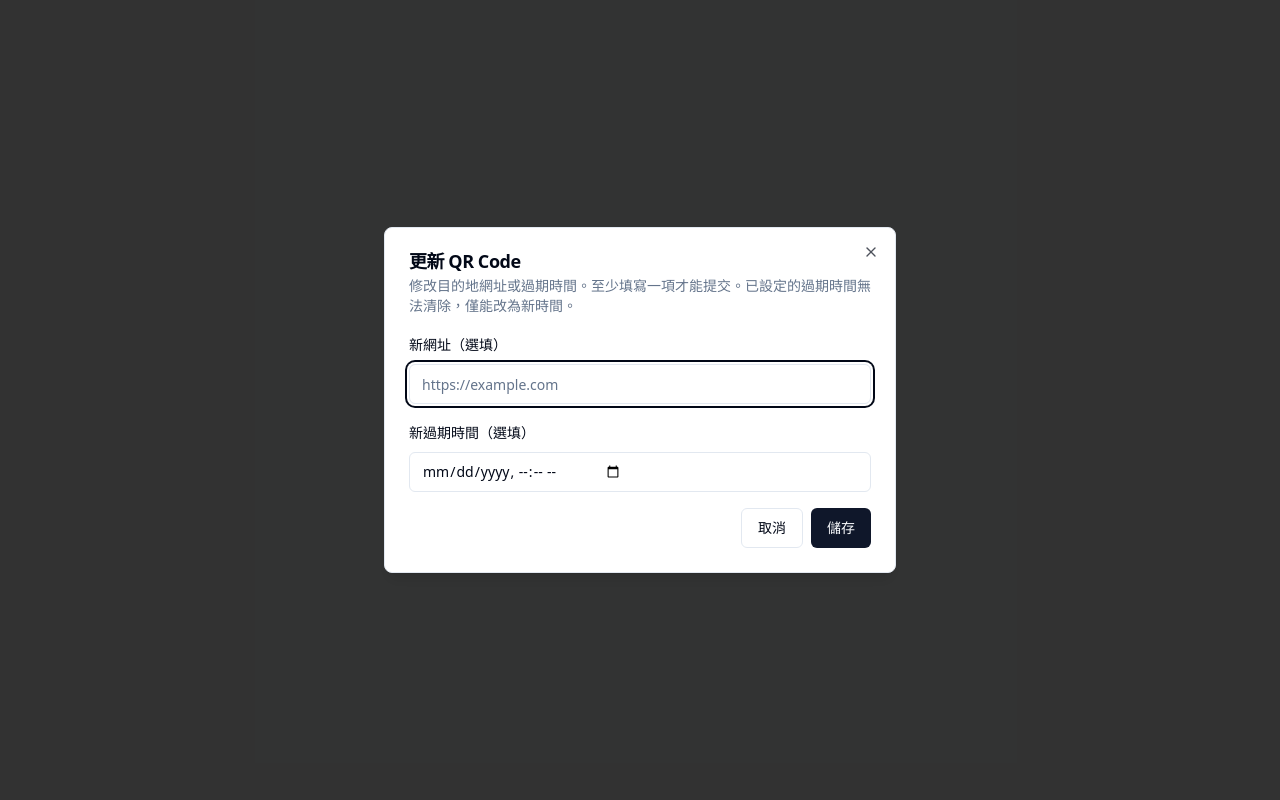
Test: UpdateUrlDialog › rejects when both fields empty
Click the button "儲存" at (841, 528), box [811,508,871,548]
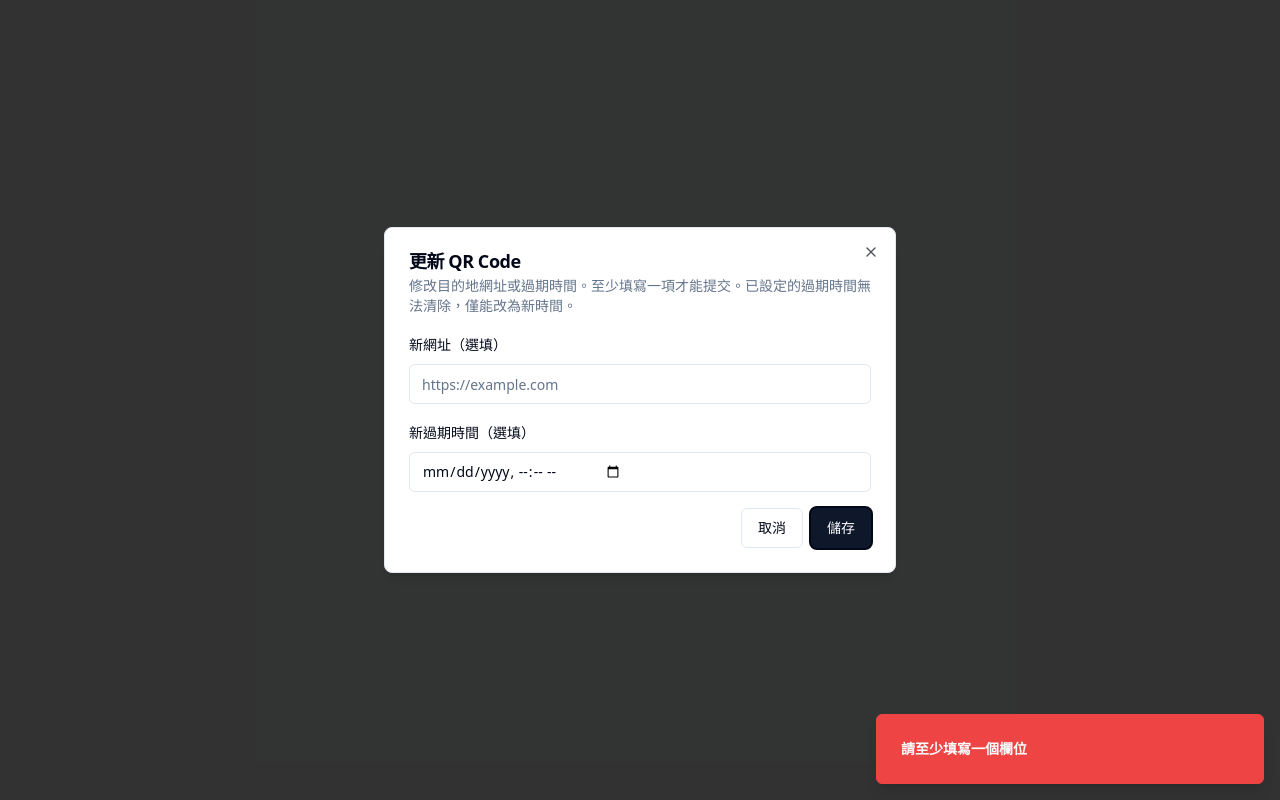
Expected: the text "請至少填寫一個欄位" is shown, [901,739,1027,759]
